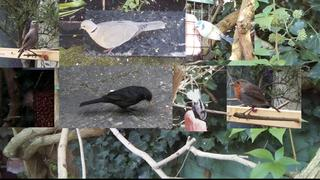blackbird: (79, 86, 152, 114)
blue tit: (193, 20, 234, 44)
collared dove: (79, 20, 166, 54)
long tailed tit: (195, 86, 207, 120)
mouse: (22, 88, 34, 110)
robin: (229, 79, 281, 122)
starling: (18, 20, 39, 59)
